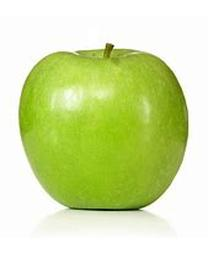apple: (17, 44, 188, 210)
